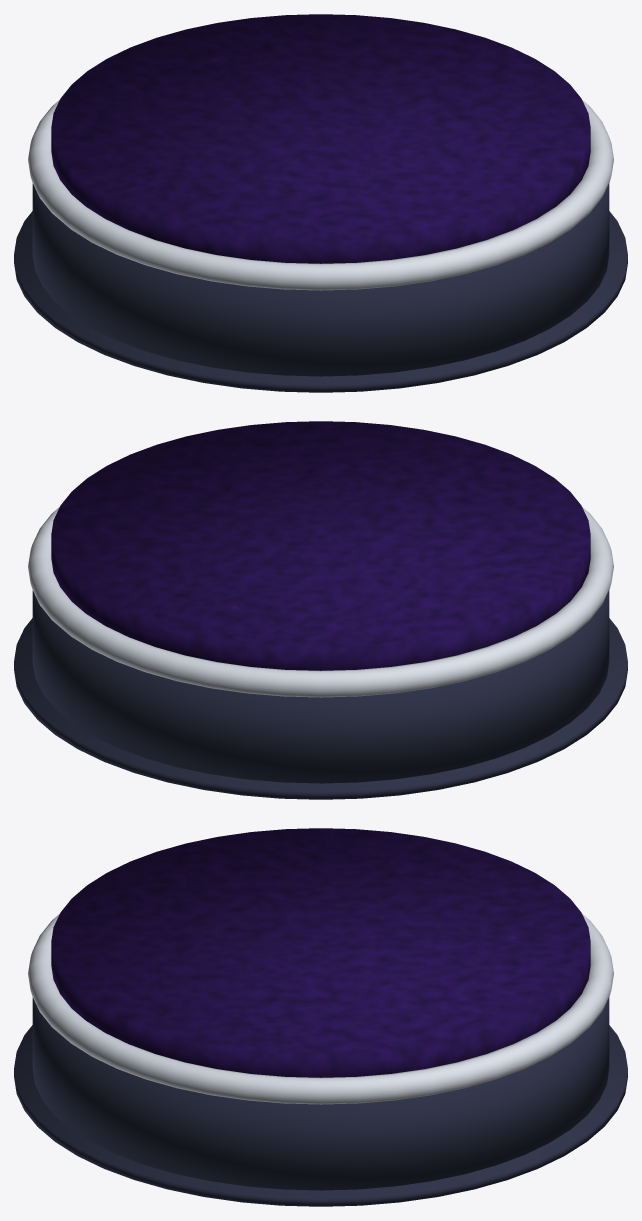
The model's file is SM_Pedestal_Cosmic.fbx.
The picture shows the model from 3 angles, top to bottom: view 1: azimuth 30°, elevation 25°; view 2: azimuth 150°, elevation 25°; view 3: azimuth 270°, elevation 25°; orthographic projection.
Parts seen in each view (by area): view 1: SM_Pedestal_Cosmic; view 2: SM_Pedestal_Cosmic; view 3: SM_Pedestal_Cosmic.
Boxes of the visible parts, x1=… form: SM_Pedestal_Cosmic: x1=14, y1=14, x2=627, y2=392; SM_Pedestal_Cosmic: x1=14, y1=421, x2=627, y2=799; SM_Pedestal_Cosmic: x1=14, y1=828, x2=627, y2=1206.
Size of what is drawn, in the model's own units: 1.32 by 0.32 by 1.32.
1 material, 1 textured.
